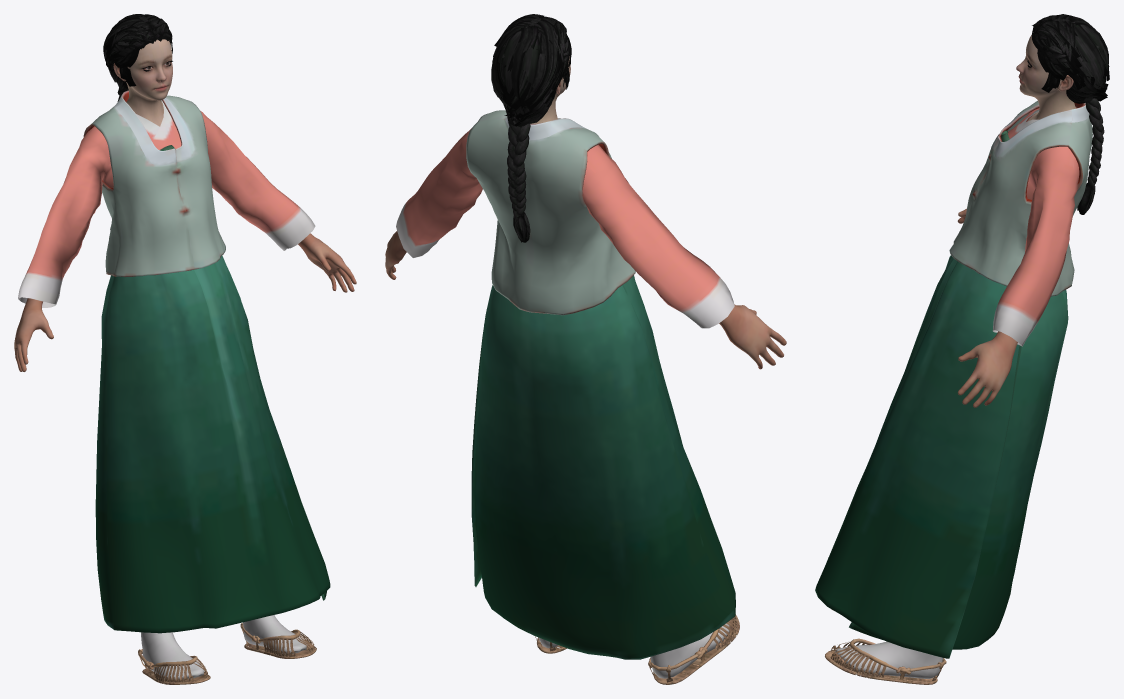
File: jumo2.fbx
The picture shows the model from 3 angles, left to right: view 1: azimuth 30°, elevation 25°; view 2: azimuth 150°, elevation 25°; view 3: azimuth 270°, elevation 25°; orthographic projection. The views are drawn at different scales.
Parts seen in each view (by area): view 1: NPC_Pomogjeom_Mesh_0; view 2: NPC_Pomogjeom_Mesh_0; view 3: NPC_Pomogjeom_Mesh_0.
Boxes of the visible parts, <box> form: NPC_Pomogjeom_Mesh_0: <box>14,14,356,684</box>; NPC_Pomogjeom_Mesh_0: <box>385,14,786,684</box>; NPC_Pomogjeom_Mesh_0: <box>815,14,1109,684</box>.
Size of the model in its own units: 98.14 by 169 by 70.58.
Materials: 2 (2 with a texture image).
